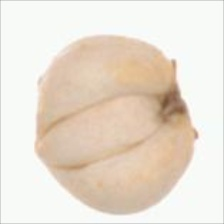L5: (34, 90, 171, 172), (156, 53, 200, 141)
L6: (30, 32, 202, 217)
